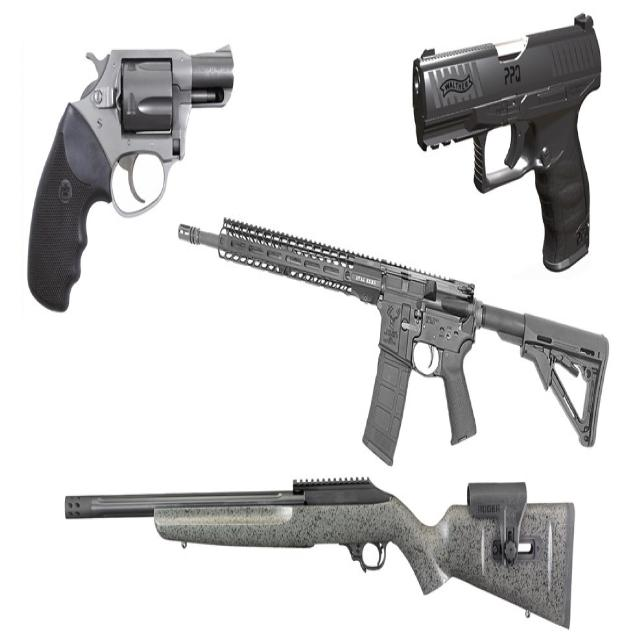HandGun: (27, 45, 235, 314), (412, 14, 602, 273)
Rifle: (176, 216, 609, 467)
ShotGun: (64, 479, 576, 630)
